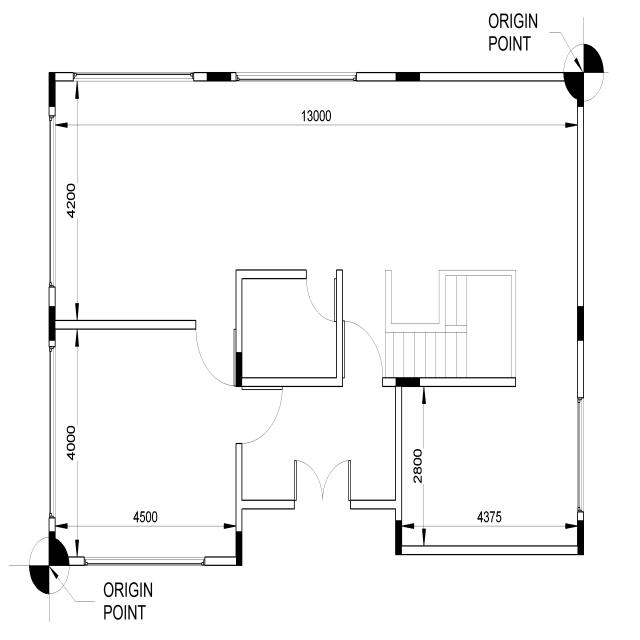Column: (49, 72, 56, 107), (49, 306, 56, 341), (49, 531, 56, 566), (235, 531, 242, 566), (395, 520, 402, 555), (577, 520, 584, 555), (577, 306, 584, 341), (396, 377, 420, 387), (207, 72, 231, 81), (396, 72, 420, 81), (236, 352, 242, 387), (563, 72, 584, 82), (577, 81, 584, 107), (56, 556, 70, 566)
Door: (342, 320, 383, 387), (196, 319, 236, 386), (235, 387, 282, 444), (306, 269, 337, 322)
Double-Door: (294, 460, 351, 510)
Staircase: (385, 276, 512, 377)
Window: (49, 346, 56, 519), (49, 115, 56, 288), (84, 556, 205, 566), (73, 72, 194, 82), (235, 72, 357, 81), (577, 397, 584, 513)
